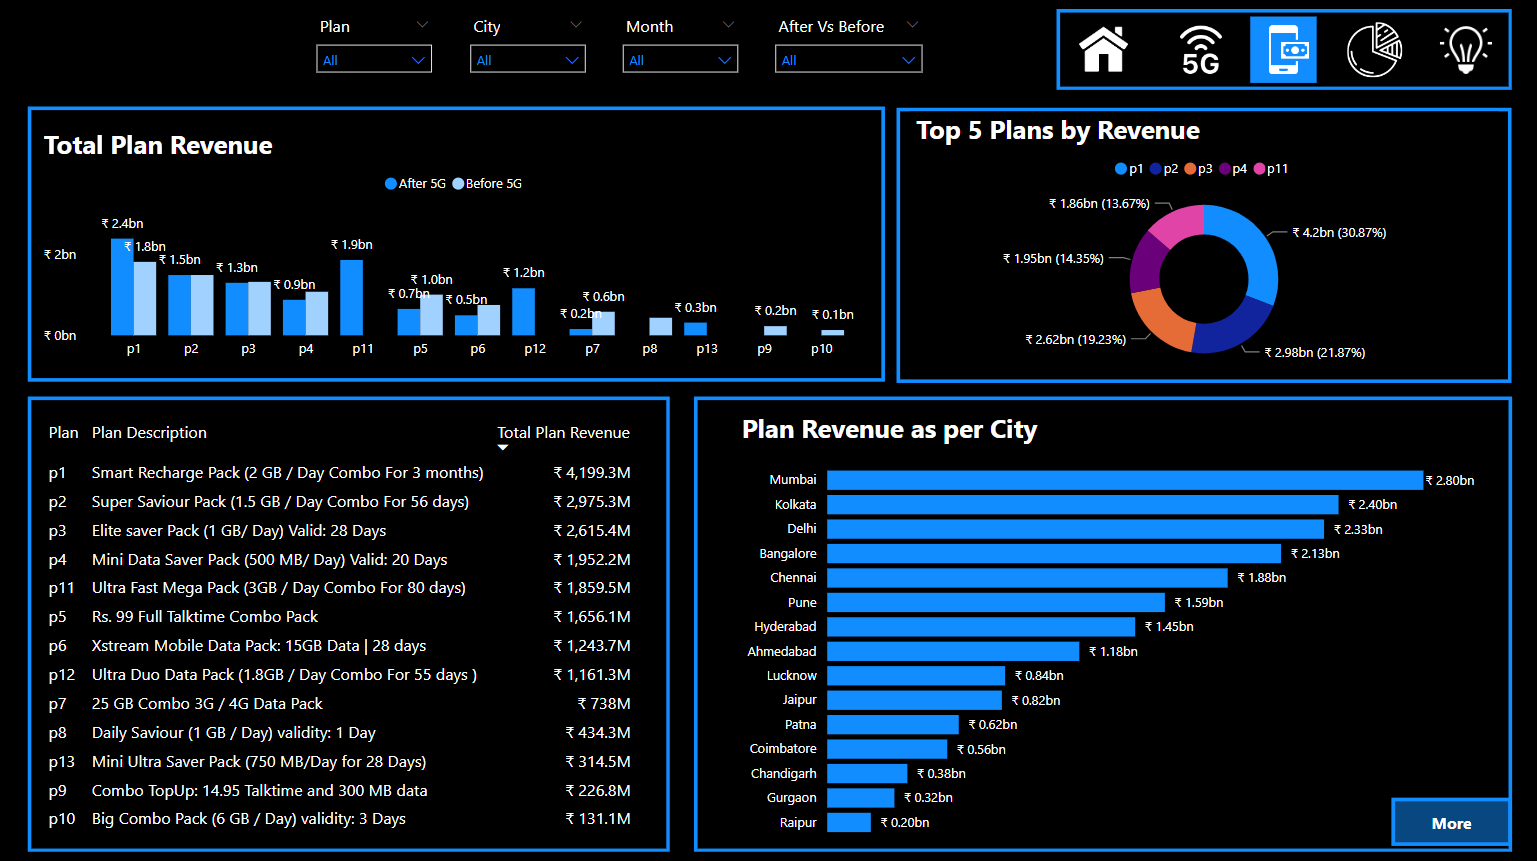

This screenshot's page, from the dashboard's own definition file:
{"tool":"powerbi","page":{"name":"Plans","canvas":[1280,720],"ordinal":2},"visuals":[{"type":"shape","box":[23.8,89.4,712.5,228.8],"z":0},{"type":"clusteredColumnChart","title":"Total Plan Revenue","fields":{"Category":["dim_plan.plan"],"Series":["dim_date.before/after_5g"],"Y":["Key_Measures.Total_plan_revenue"]},"box":[32.5,105.6,695,201.2],"z":1000},{"type":"shape","box":[23.8,330,533.8,378.8],"z":2000},{"type":"tableEx","fields":{"Values":["dim_plan.plan","dim_plan.plan_description","Key_Measures.Total_plan_revenue"]},"box":[30,342.5,516.2,356.2],"z":3000},{"type":"shape","box":[577.5,330,680,378.8],"z":4000},{"type":"clusteredBarChart","title":"Plan Revenue as per City","fields":{"Y":["Key_Measures.Total_plan_revenue"],"Category":["dim_cities.city_name"]},"box":[597.5,336.2,648.8,368.8],"z":5000},{"type":"shape","box":[746.2,90,511.2,228.8],"z":6000},{"type":"donutChart","title":"Top 5 Plans by Revenue","fields":{"Y":["Key_Measures.Total_plan_revenue"],"Category":["dim_plan.plan"]},"box":[757.5,93.8,488.8,222.5],"z":7000},{"type":"shape","box":[879.2,8.8,378.8,67.5],"z":8000},{"type":"image","box":[890.4,15,55,55],"z":9000},{"type":"image","box":[971.7,15,55,55],"z":10000},{"type":"image","box":[1040.4,15,55,55],"z":11000},{"type":"image","box":[1115.4,15,55,55],"z":12000},{"type":"image","box":[1191.7,15,55,55],"z":13000},{"type":"slicer","title":"Plans","fields":{"Values":["dim_cities.city_name"]},"box":[380.8,8.8,116.2,61.2],"z":14000},{"type":"slicer","title":"Plans","fields":{"Values":["dim_date.month_name"]},"box":[507.9,8.8,116.2,61.2],"z":15000},{"type":"slicer","title":"Plans","fields":{"Values":["dim_date.before/after_5g"]},"box":[635,8.8,142.5,61.2],"z":16000},{"type":"slicer","title":"Plans","fields":{"Values":["dim_plan.plan"]},"box":[253.8,8.8,116.2,61.2],"z":17000},{"type":"actionButton","box":[1157.5,663.8,100,40],"z":17001}]}

Visuals, with their boxes in screenshot pixels (x1, y1, x2, y2), scaled from the page's 1280x720 canvas onto the 1537x861 screenshot:
shape: pyautogui.locateOnScreen(29, 107, 884, 381)
"Total Plan Revenue" clusteredColumnChart: pyautogui.locateOnScreen(39, 126, 874, 367)
shape: pyautogui.locateOnScreen(29, 395, 670, 848)
tableEx - dim_plan.plan x dim_plan.plan_description: pyautogui.locateOnScreen(36, 410, 656, 836)
shape: pyautogui.locateOnScreen(693, 395, 1510, 848)
"Plan Revenue as per City" clusteredBarChart: pyautogui.locateOnScreen(717, 402, 1497, 843)
shape: pyautogui.locateOnScreen(896, 108, 1510, 381)
"Top 5 Plans by Revenue" donutChart: pyautogui.locateOnScreen(910, 112, 1497, 378)
shape: pyautogui.locateOnScreen(1056, 11, 1511, 91)
image: pyautogui.locateOnScreen(1069, 18, 1135, 84)
image: pyautogui.locateOnScreen(1167, 18, 1233, 84)
image: pyautogui.locateOnScreen(1249, 18, 1315, 84)
image: pyautogui.locateOnScreen(1339, 18, 1405, 84)
image: pyautogui.locateOnScreen(1431, 18, 1497, 84)
"Plans" slicer: pyautogui.locateOnScreen(457, 11, 597, 84)
"Plans" slicer: pyautogui.locateOnScreen(610, 11, 749, 84)
"Plans" slicer: pyautogui.locateOnScreen(762, 11, 934, 84)
"Plans" slicer: pyautogui.locateOnScreen(305, 11, 444, 84)
actionButton: pyautogui.locateOnScreen(1390, 794, 1510, 842)
